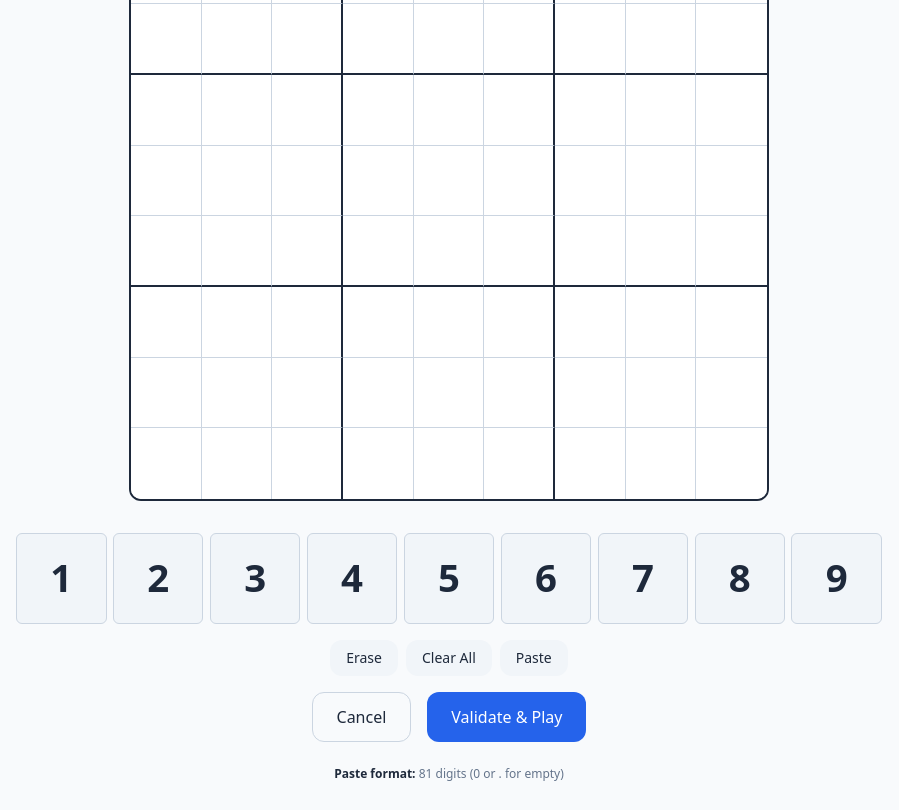
Test case: Custom page › validate and play › shows the multiple-solutions message for a non-unique puzzle
Click the button "Paste". click: (534, 658)
box: [500,640,568,676]
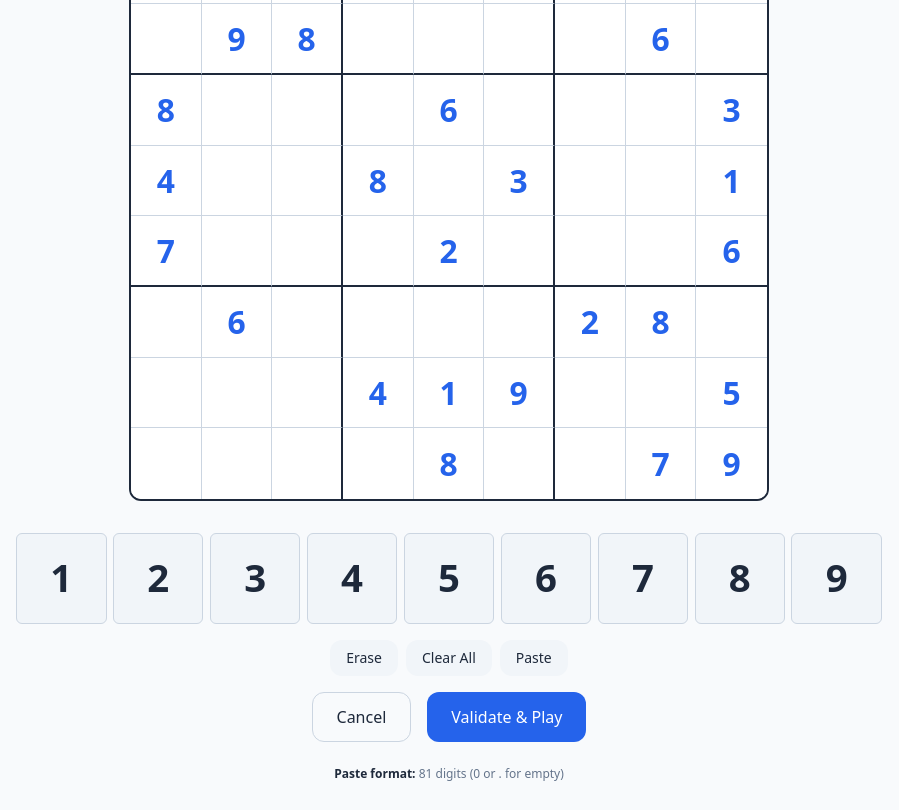
Click the button "Validate & Play". click: (507, 716)
box: [427,692,586,742]
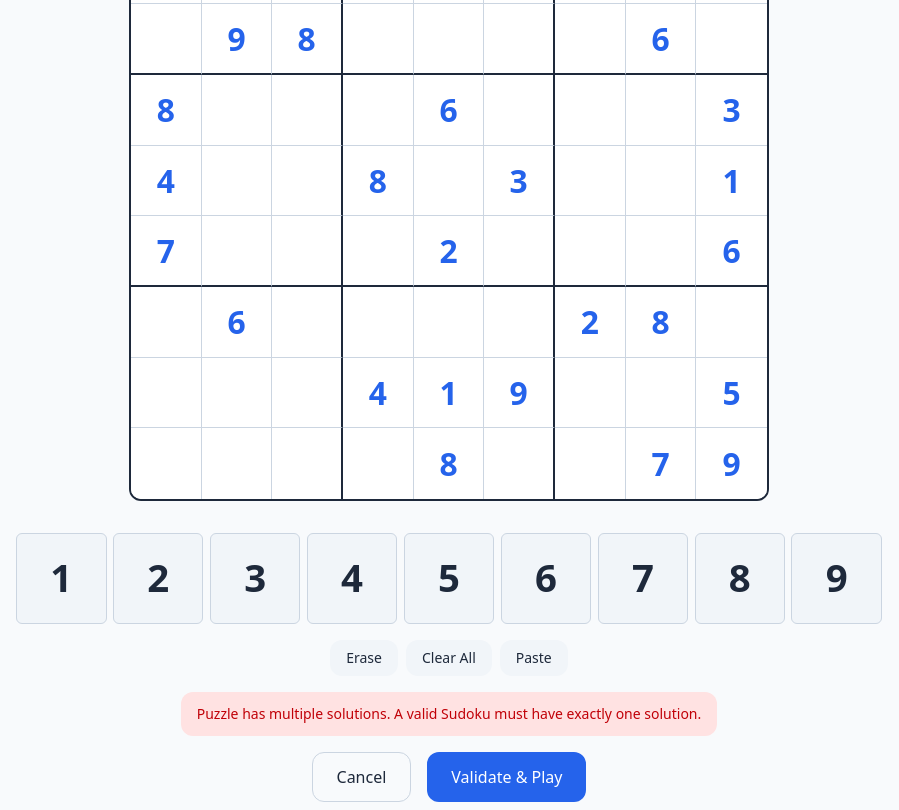
Expected: the text "Puzzle has multiple solutions. A valid Sudoku must have exactly one solution." is shown, [181,692,717,736]
